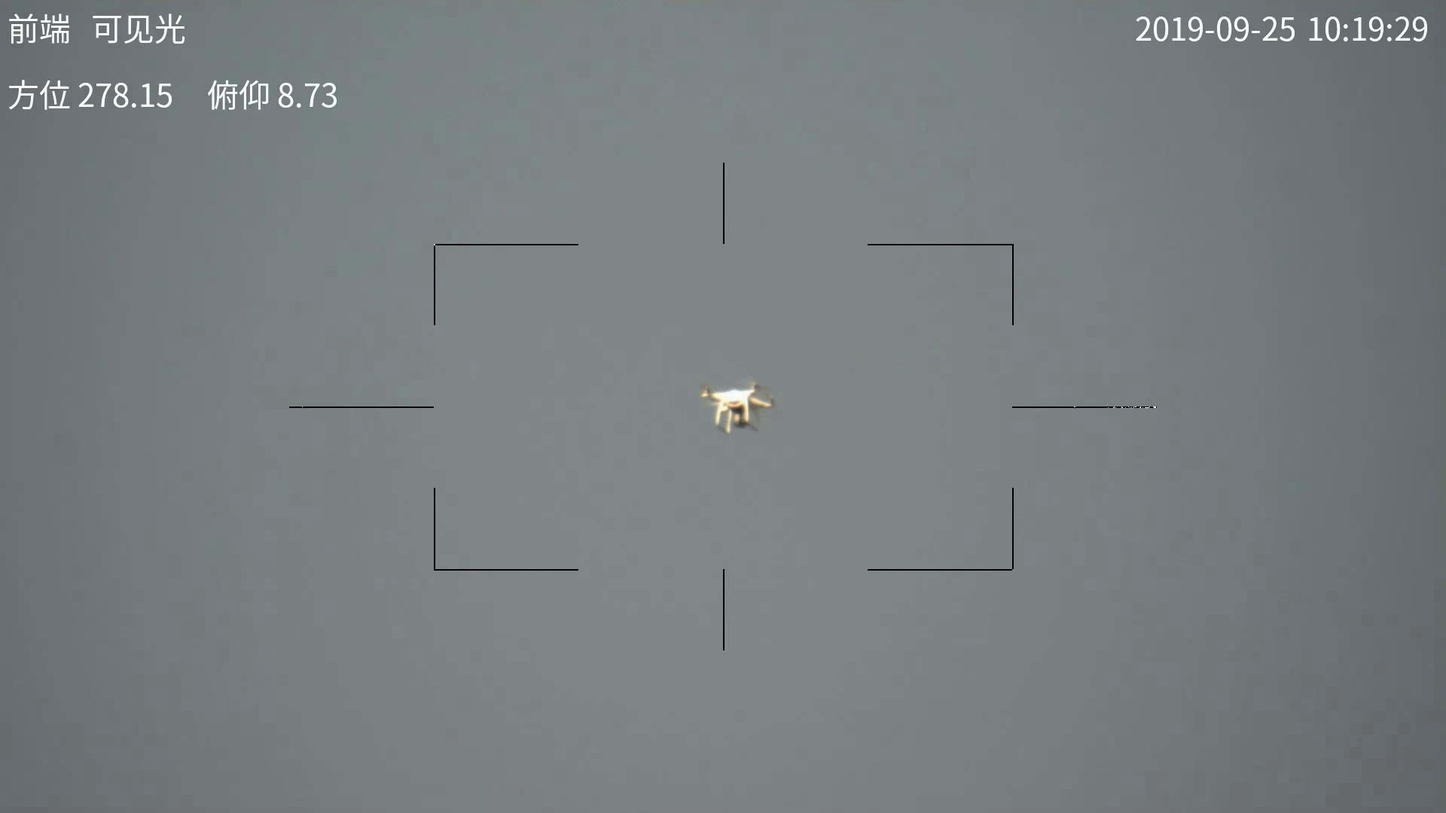drone_other: (690, 380, 786, 437)
